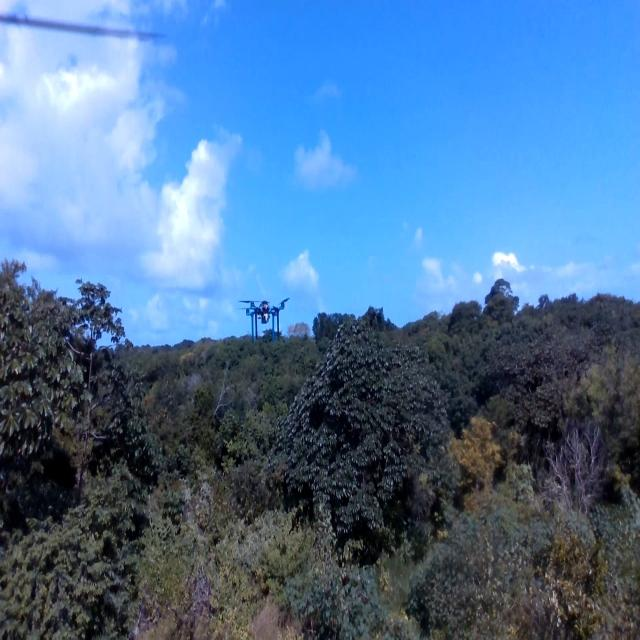-uav-: (231, 287, 296, 347)
